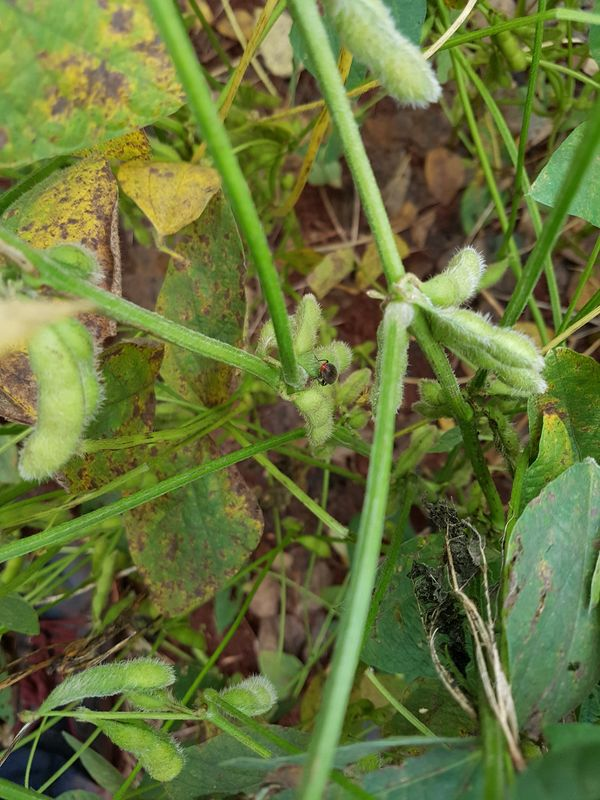Lagria_villosa: (308, 352, 340, 390)
